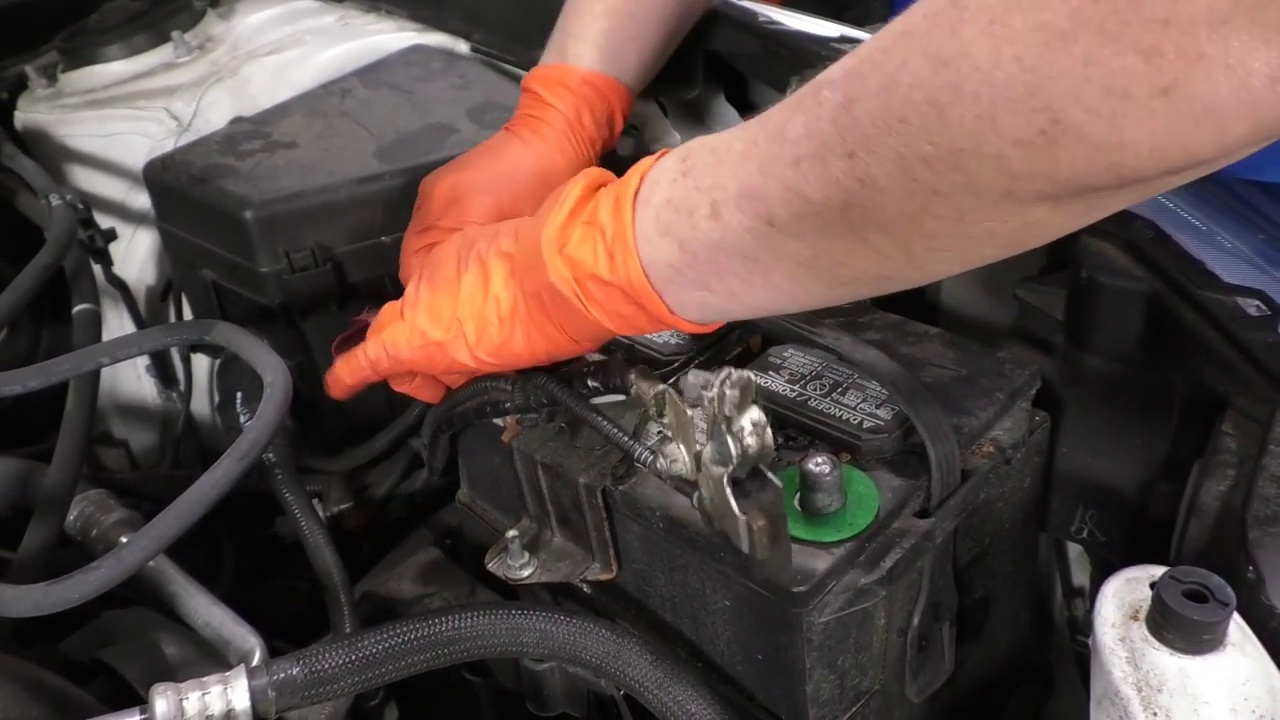battery: (424, 288, 1032, 589)
